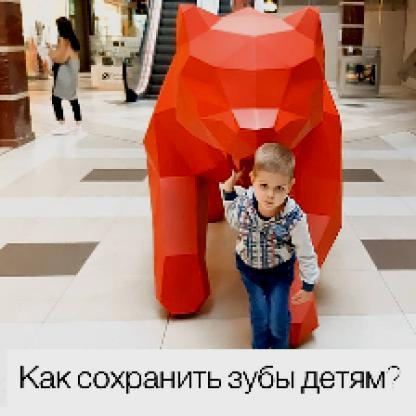child: (222, 143, 323, 349)
